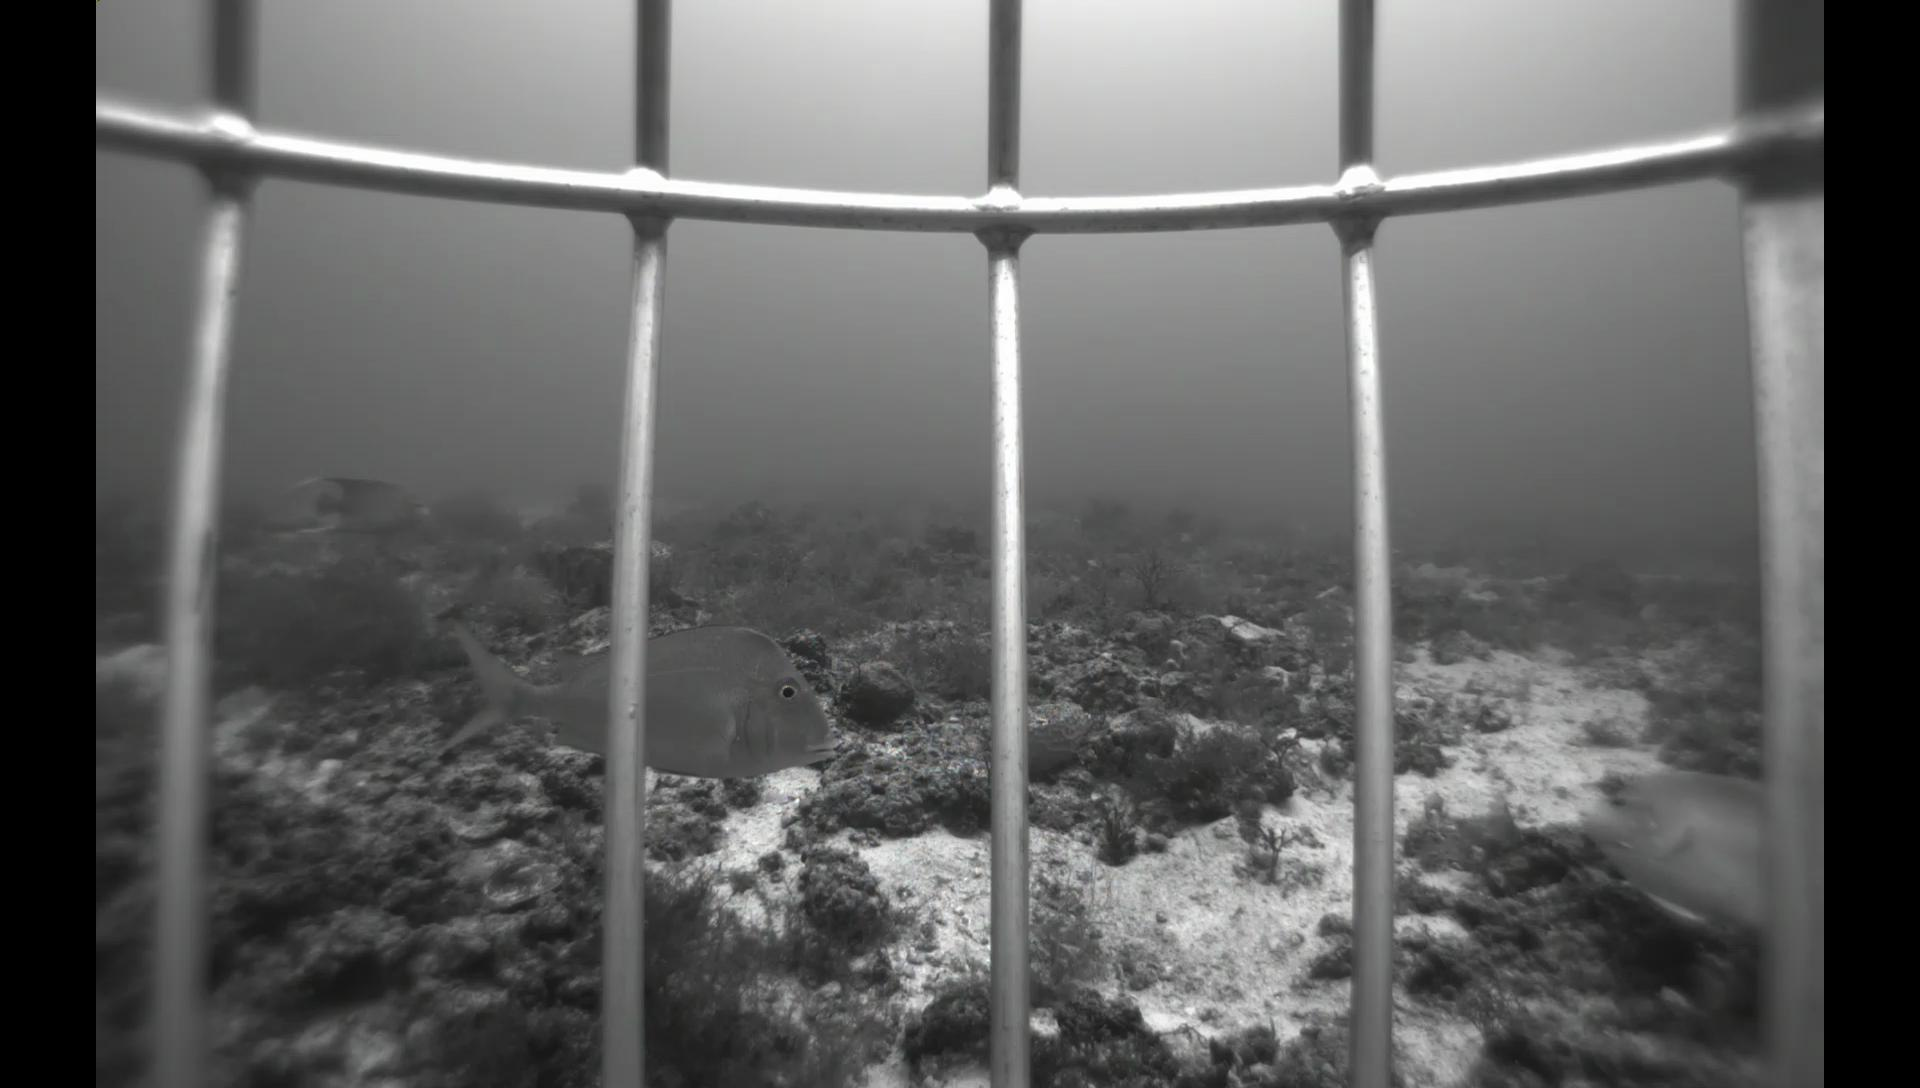CALAMUSNODOSUS-170210608: (433, 601, 847, 787)
HOLACANTHUSBERMUDENSIS-170290102: (1557, 754, 1766, 948), (276, 472, 434, 547)
MYCTEROPERCAPHENAX-170022105: (847, 510, 889, 557)
